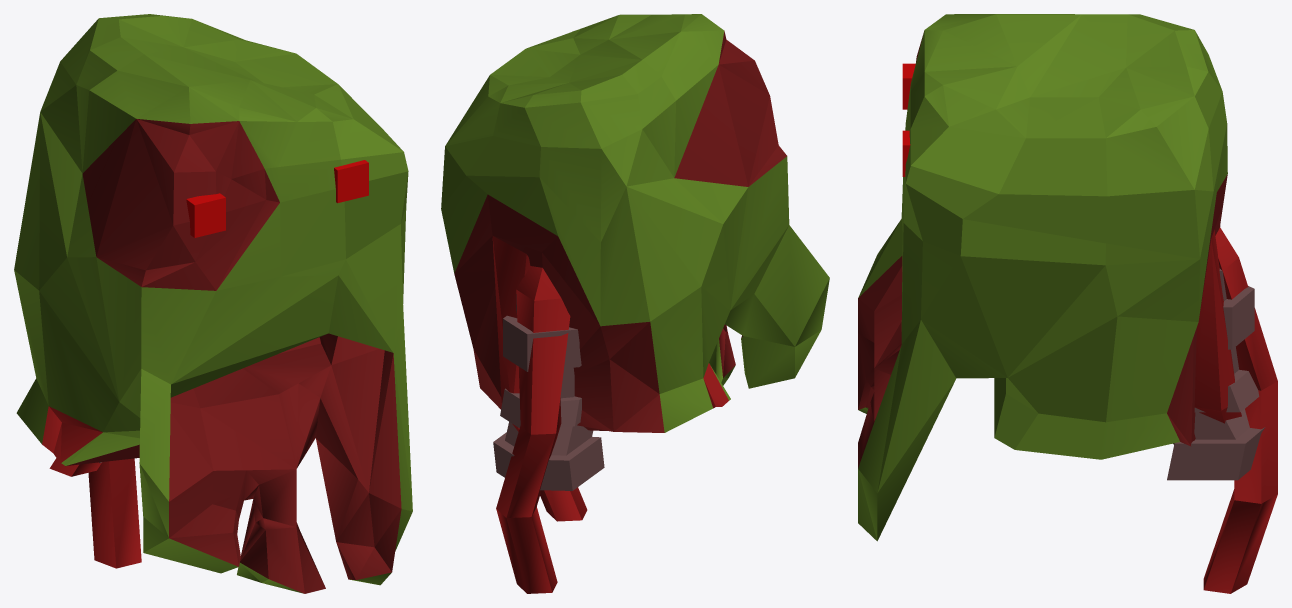
Rendered from spitter1_head.fbx.
The picture shows the model from 3 angles, left to right: view 1: azimuth 30°, elevation 25°; view 2: azimuth 150°, elevation 25°; view 3: azimuth 270°, elevation 25°; orthographic projection. The views are drawn at different scales.
Visible parts, largest first — view 1: Head; view 2: Head; view 3: Head.
Boxes of the visible parts, bbox=[...] form: Head: bbox=[14, 14, 412, 593]; Head: bbox=[441, 14, 829, 593]; Head: bbox=[858, 14, 1277, 593].
Bounding box in the file's own units: 18.98 × 33.29 × 23.13.
